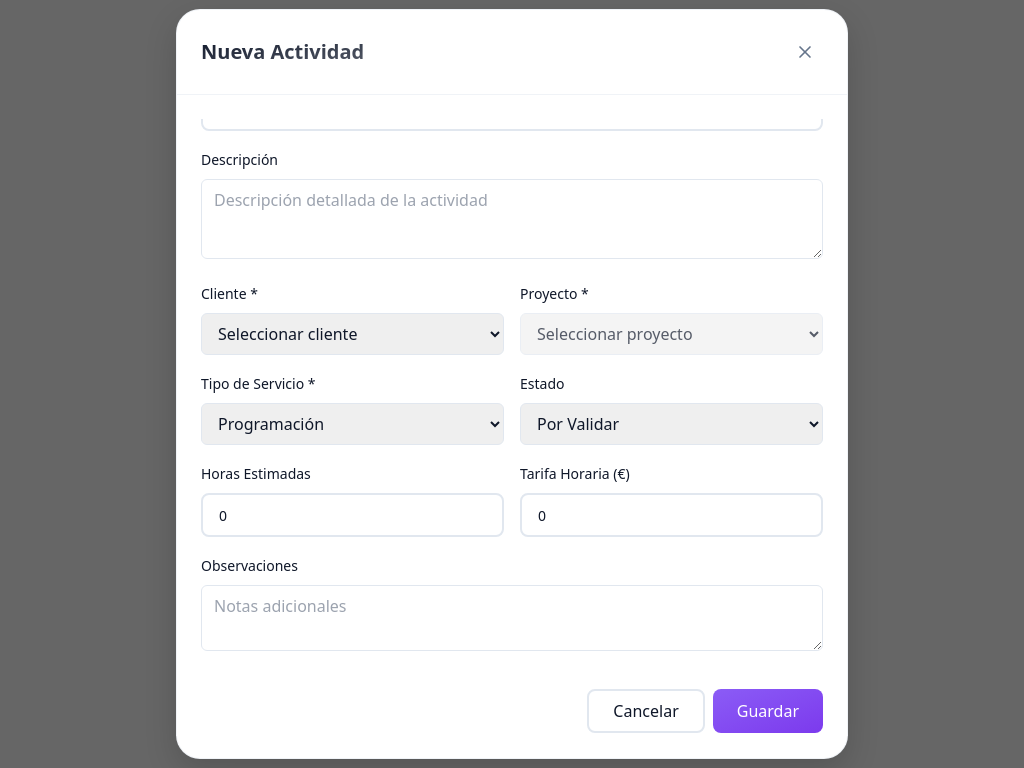
ActivityForm › shows validation errors when required fields missing
(page scrolled)
Click the button "Guardar" at (768, 711), box [713,689,823,733]
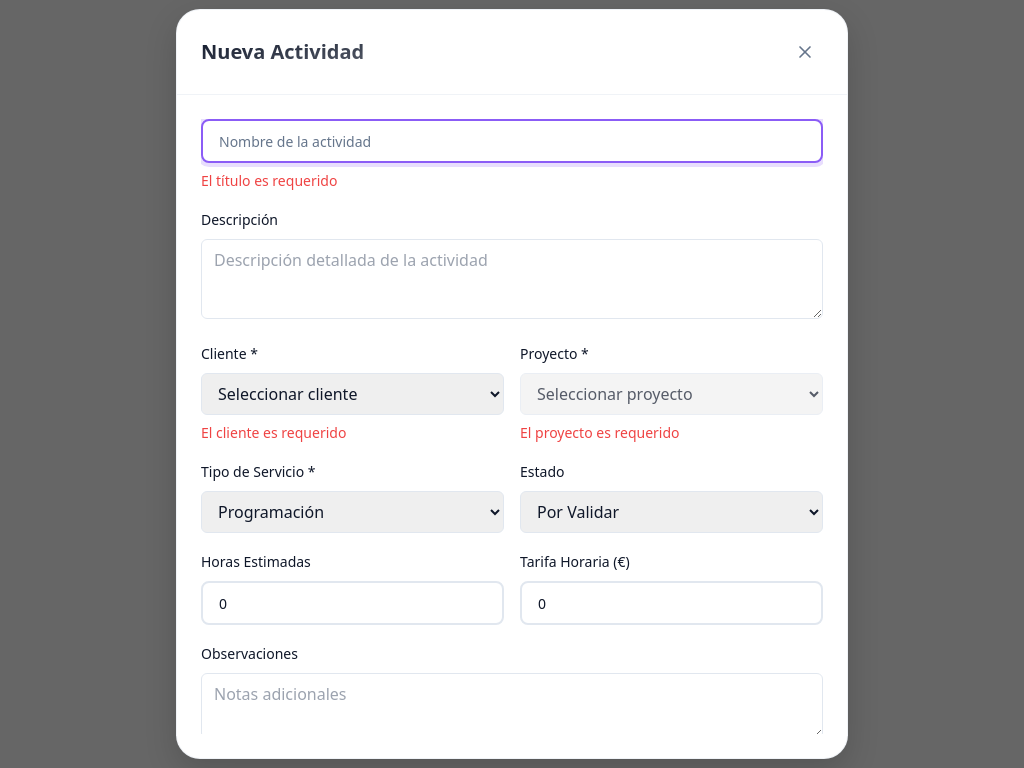
Expected: the text "El título es requerido" is shown, [201,171,337,190]
Expected: the text "El cliente es requerido" is shown, [201,423,346,442]
Expected: the text "El proyecto es requerido" is shown, [520,423,680,442]
